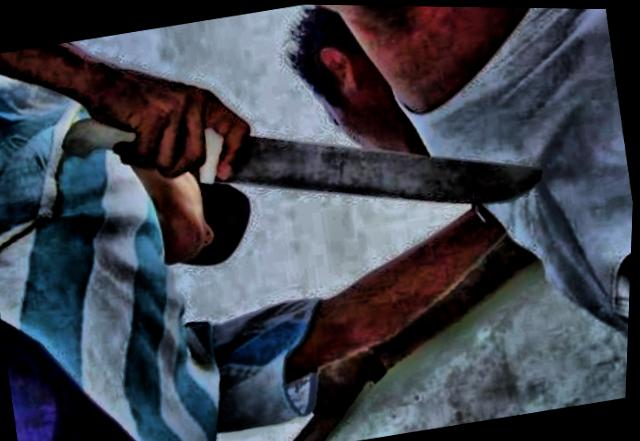knife: (43, 28, 561, 281)
